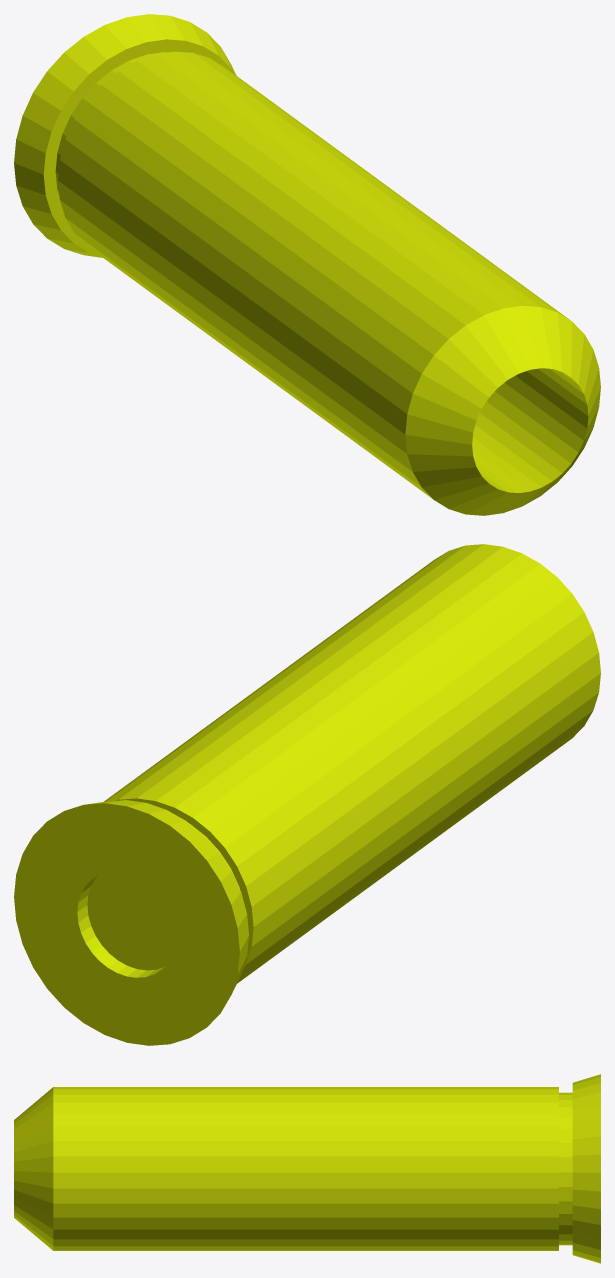
The model's file is shell.fbx.
3 views of the same model, one above another, from view 1: azimuth 30°, elevation 25°; view 2: azimuth 150°, elevation 25°; view 3: azimuth 270°, elevation 25° (orthographic). The views are drawn at different scales.
Parts seen in each view (by area): view 1: shell; view 2: shell; view 3: shell.
Part boxes in pixels (left/top/right/bottom): shell: left=14, top=14, right=600, bottom=515; shell: left=14, top=544, right=600, bottom=1045; shell: left=14, top=1074, right=600, bottom=1263.
Bounding box in the file's own units: 0.6468 × 0.6468 × 2.
